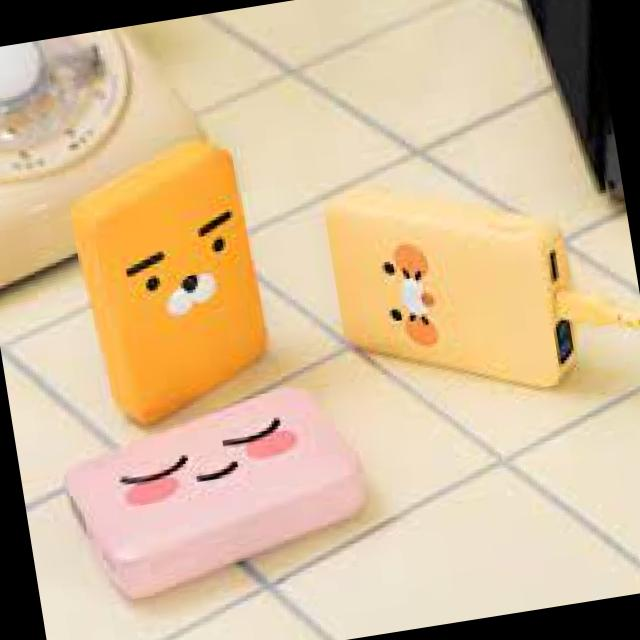power_bank: (54, 374, 386, 616), (318, 157, 586, 421), (54, 135, 280, 436)
